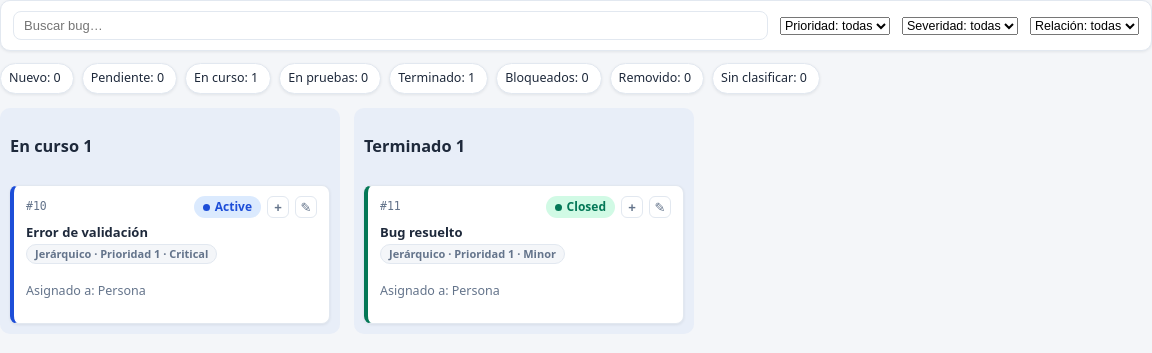
Test case: TableroBugs › muestra métricas visibles y filtra por severidad
Expected: the heading "Error de validación" is shown, [26,223,148,241]
Expected: the heading "Bug resuelto" is shown, [380,223,463,241]
Select "sin severidad" in the dropdown named "filtrar por severidad" at (960, 26), box [902,16,1018,34]
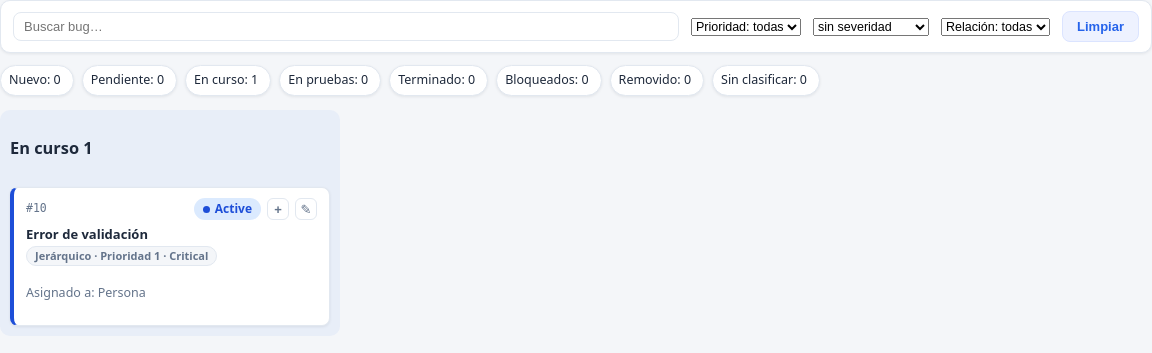
Expected: the heading "Error de validación" is shown, [26,225,148,243]
Expected: the heading "Bug resuelto" is gone
